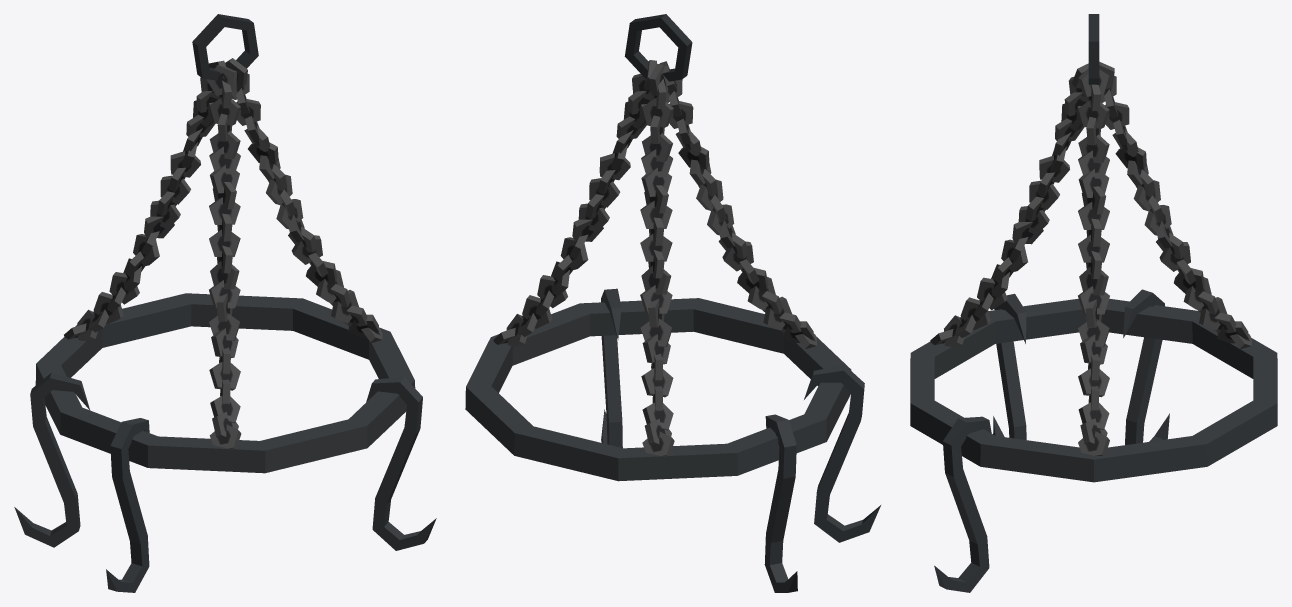
Rendered from kingdom_SM_Prop_Meat_Hanger_01.gltf.
3 renders of one model, left to right at view 1: azimuth 30°, elevation 25°; view 2: azimuth 150°, elevation 25°; view 3: azimuth 270°, elevation 25°, orthographic.
Parts seen in each view (by area): view 1: SM_Prop_Meat_Hanger_01; view 2: SM_Prop_Meat_Hanger_01; view 3: SM_Prop_Meat_Hanger_01.
Part boxes in pixels (x1,y1,x2,y2): SM_Prop_Meat_Hanger_01: [14, 14, 436, 592]; SM_Prop_Meat_Hanger_01: [465, 14, 880, 592]; SM_Prop_Meat_Hanger_01: [910, 14, 1277, 592].
Bounding box in the file's own units: 0.7775 × 1.13 × 0.7207.
1 material, 1 textured.
